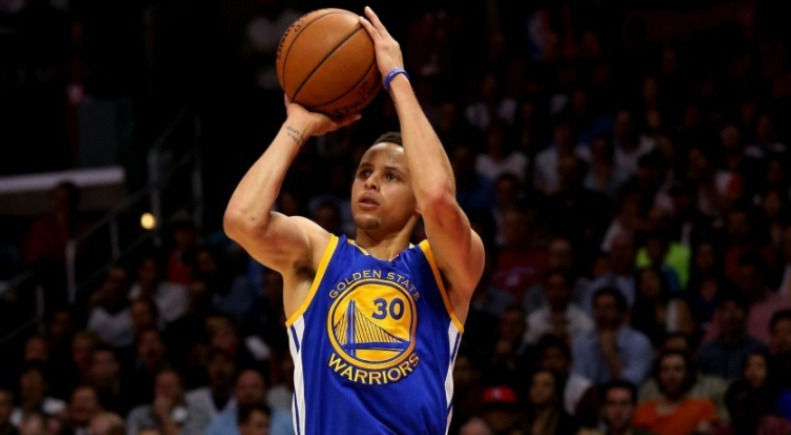ball: (268, 4, 402, 134)
shoot: (217, 8, 490, 435)
